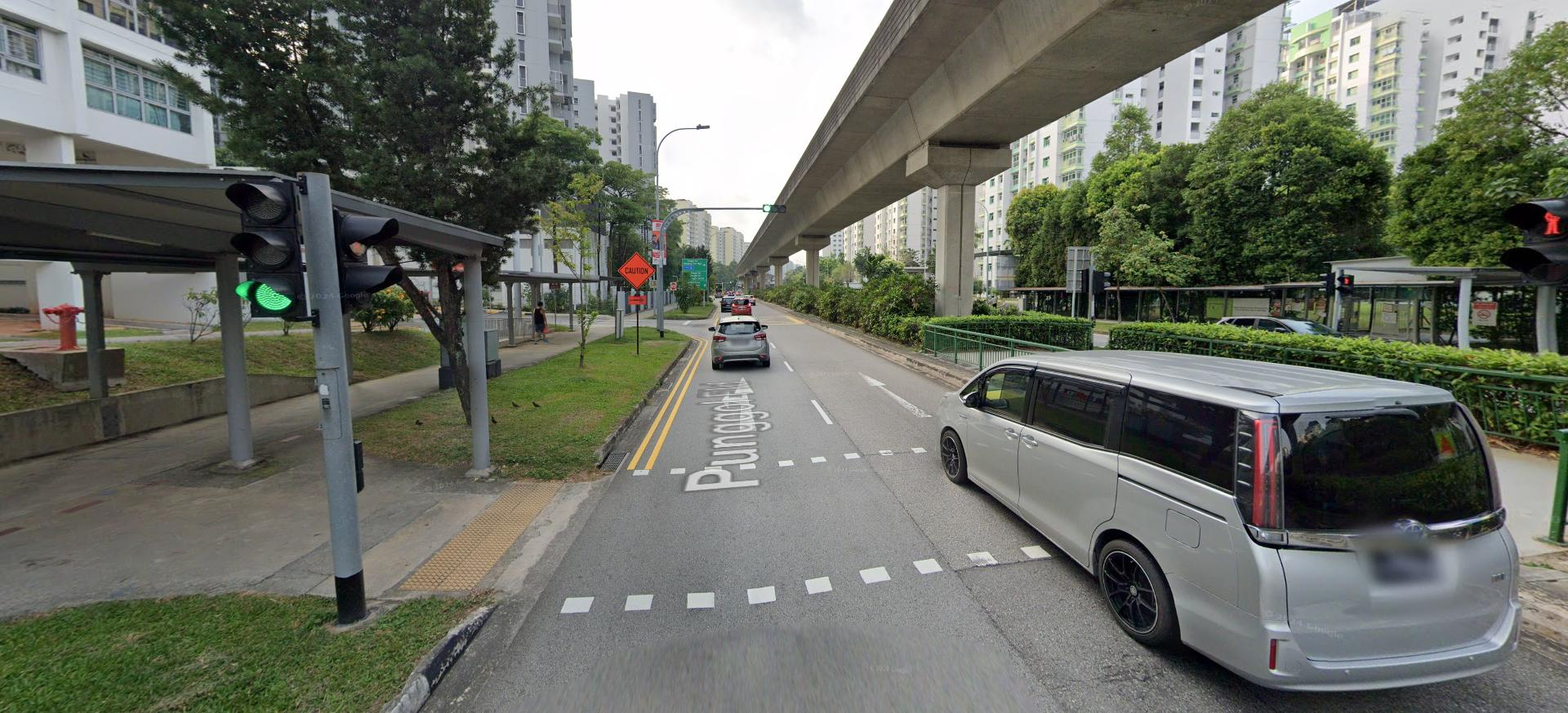defect: (598, 452, 627, 472)
